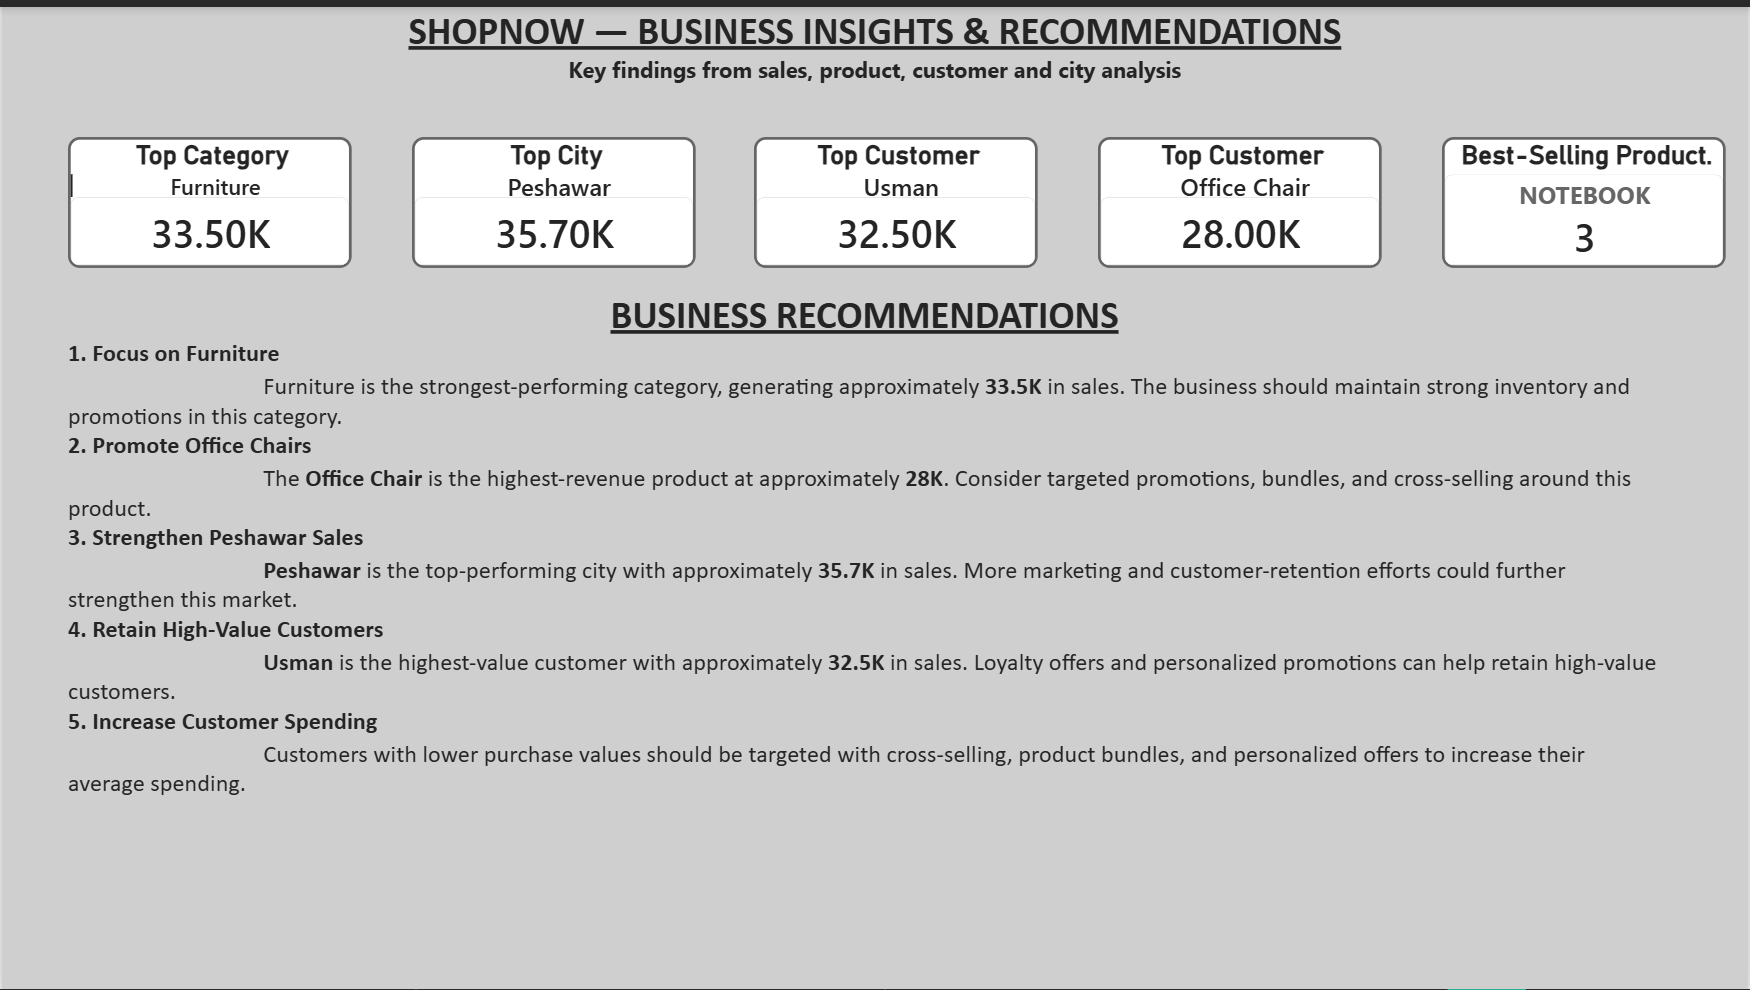

The dashboard page shown, as its layout file describes it:
{"tool":"powerbi","page":{"name":"Page 3 Business Insights & Recommendations","canvas":[1920,1080],"ordinal":2},"visuals":[{"type":"textbox","box":[0,0,1920,120],"z":0},{"type":"cardVisual","title":"Top Category","fields":{"Data":["public customers.Category Sales"],"Rows":["public products.category"]},"box":[72,144,312,144],"z":1000},{"type":"cardVisual","title":"Top City","fields":{"Data":["public customers.Category Sales"],"Rows":["public customers.city"]},"box":[450,144,312,144],"z":2000},{"type":"cardVisual","title":"Top Customer","fields":{"Data":["Sum(public orders.amount)"],"Rows":["public customers.customer_name"]},"box":[828,144,312,144],"z":3000},{"type":"cardVisual","title":"Top Customer","fields":{"Data":["public products.Product Sales"],"Rows":["public products.product_name"]},"box":[1206,144,312,144],"z":4000},{"type":"cardVisual","title":"Best-Selling Product.","fields":{"Data":["Sum(public order_items.quantity)"]},"box":[1584,144,312,144],"z":5000},{"type":"textbox","box":[72,356,312,150],"z":6000},{"type":"textbox","box":[0,576,1920,144],"z":7000},{"type":"textbox","box":[72,312,1752,600],"z":8000}]}

Visuals, with their boxes in screenshot pixels (x1, y1, x2, y2), scaled from the page's 1920x1080 canvas onto the 1750x990 screenshot:
textbox: bbox(0, 0, 1749, 110)
"Top Category" cardVisual: bbox(66, 132, 350, 264)
"Top City" cardVisual: bbox(410, 132, 695, 264)
"Top Customer" cardVisual: bbox(755, 132, 1039, 264)
"Top Customer" cardVisual: bbox(1099, 132, 1384, 264)
"Best-Selling Product." cardVisual: bbox(1444, 132, 1728, 264)
textbox: bbox(66, 326, 350, 464)
textbox: bbox(0, 528, 1749, 660)
textbox: bbox(66, 286, 1662, 836)
